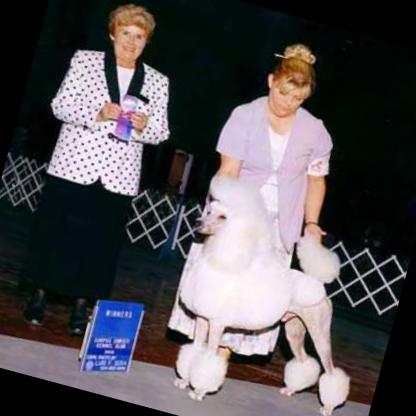standard_poodle: (147, 167, 394, 416)
